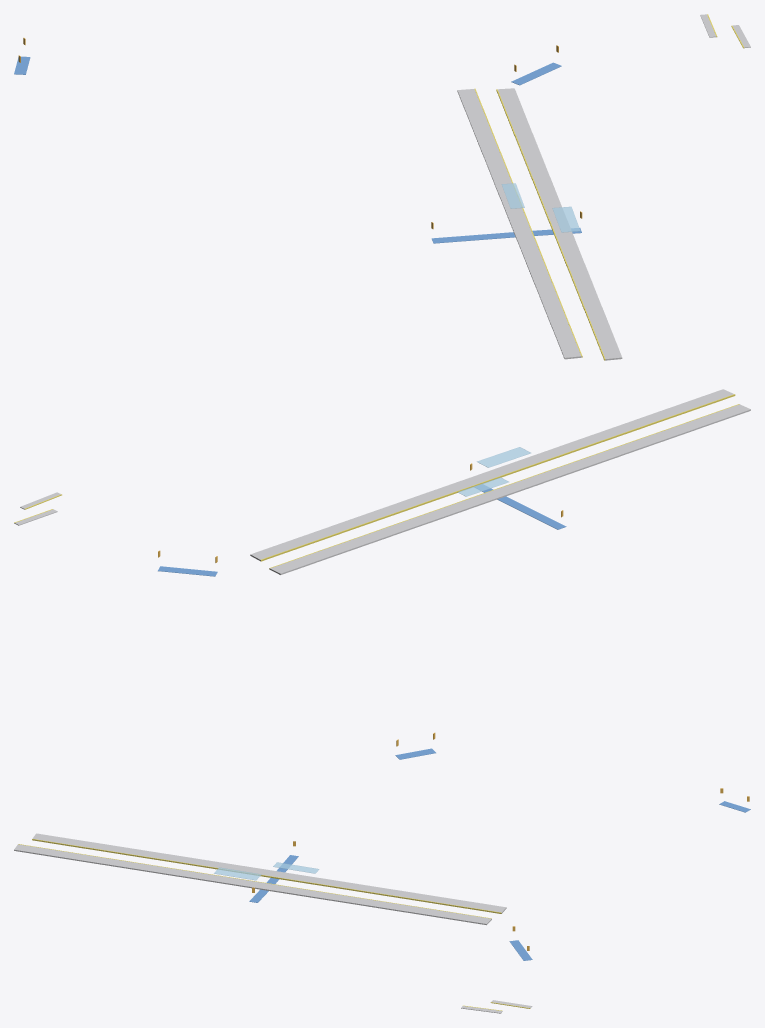
The model's file is 8504117-oberwangen.glb.
3 views of the same model, one above another, from view 1: azimuth 30°, elevation 25°; view 2: azimuth 150°, elevation 25°; view 3: azimuth 270°, elevation 25° (orthographic). The views are drawn at different scales.
Visible parts, largest first — view 1: platform_body@0, passage@-1, boarding_edge@0, roof@0; view 2: platform_body@0, boarding_edge@0, passage@-1, roof@0; view 3: platform_body@0, boarding_edge@0, passage@-1, roof@0.
Part boxes in pixels (x1,y1,x2,y2): platform_body@0: (457,14,750,360); passage@-1: (14,56,581,243); boarding_edge@0: (474,14,744,360); roof@0: (501,183,580,232); platform_body@0: (14,389,750,574); boarding_edge@0: (14,394,739,569); passage@-1: (158,484,566,759); roof@0: (457,447,530,496); platform_body@0: (14,833,532,1013); boarding_edge@0: (18,839,530,1010); passage@-1: (249,801,750,960); roof@0: (214,862,319,880).
Size of the model in its own units: 226 by 9.12 by 318.
